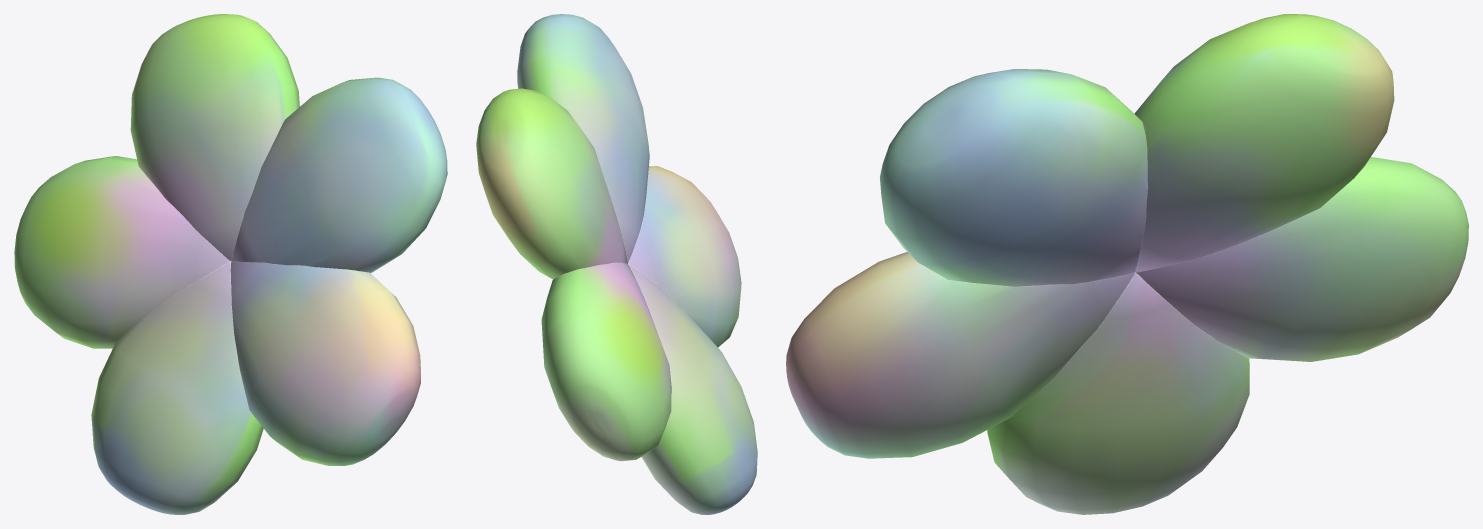
File: fiore texture paint 7.fbx
3 renders of one model, left to right at view 1: azimuth 30°, elevation 25°; view 2: azimuth 150°, elevation 25°; view 3: azimuth 270°, elevation 25°, orthographic. The views are drawn at different scales.
Parts seen in each view (by area): view 1: Cylinder.017; view 2: Cylinder.017; view 3: Cylinder.017.
Part boxes in pixels (box(x1,y1,x2,y2)): Cylinder.017: box(14, 14, 447, 514); Cylinder.017: box(476, 14, 757, 514); Cylinder.017: box(786, 14, 1468, 514).
Bounding box in the file's own units: 108 × 160 × 172.
